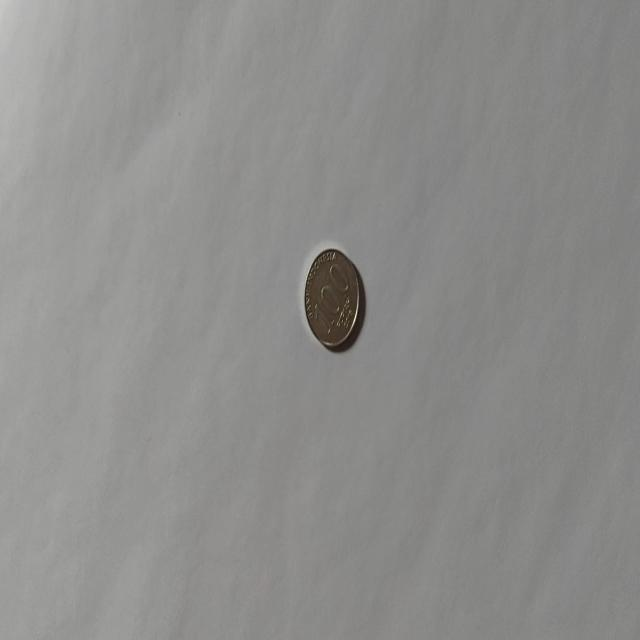seratus rupiah: (302, 246, 360, 350)
